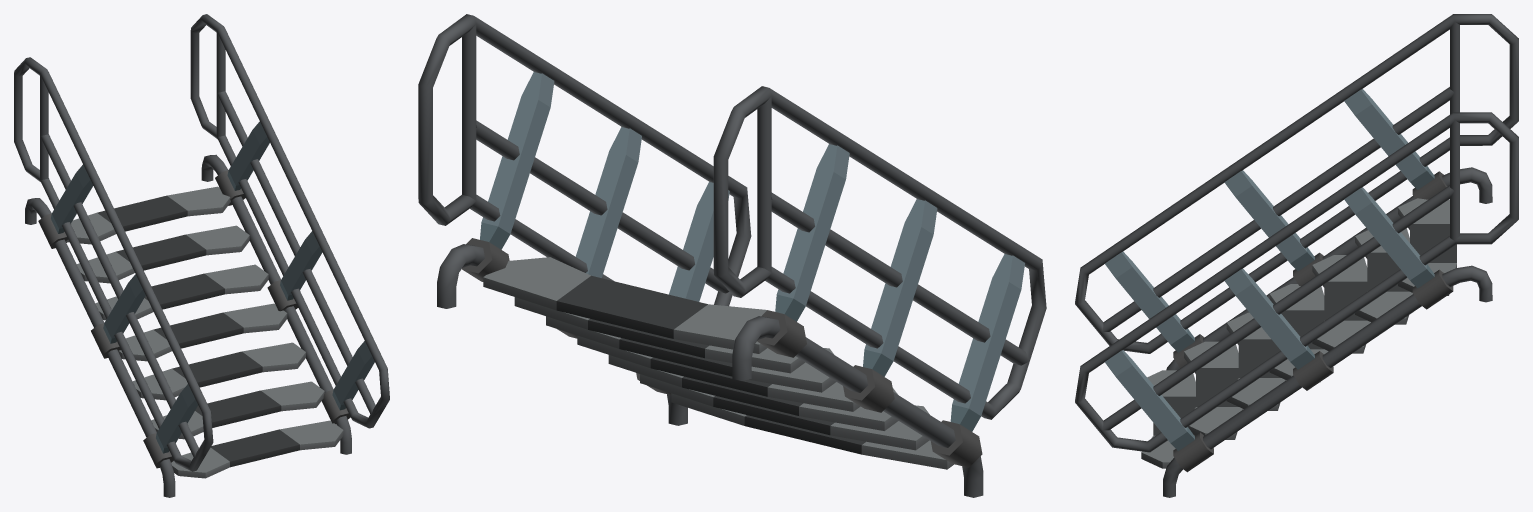
File: Stair_type_B_003.glb
3 views of the same model, side by side, from view 1: azimuth 30°, elevation 25°; view 2: azimuth 150°, elevation 25°; view 3: azimuth 270°, elevation 25° (orthographic). The views are drawn at different scales.
Parts seen in each view (by area): view 1: Stair_type_B_003, Stair_type_B_fence_003; view 2: Stair_type_B_fence_003, Stair_type_B_003; view 3: Stair_type_B_fence_003, Stair_type_B_003.
Part boxes in pixels (x1,y1,x2,y2): Stair_type_B_003: [25, 154, 351, 497]; Stair_type_B_fence_003: [14, 14, 389, 471]; Stair_type_B_fence_003: [418, 14, 1046, 431]; Stair_type_B_003: [437, 238, 983, 497]; Stair_type_B_fence_003: [1075, 14, 1518, 452]; Stair_type_B_003: [1141, 167, 1492, 497].
Bounding box in the file's own units: 1.8 × 2.92 × 3.09.
Materials: 1 (1 with a texture image).
